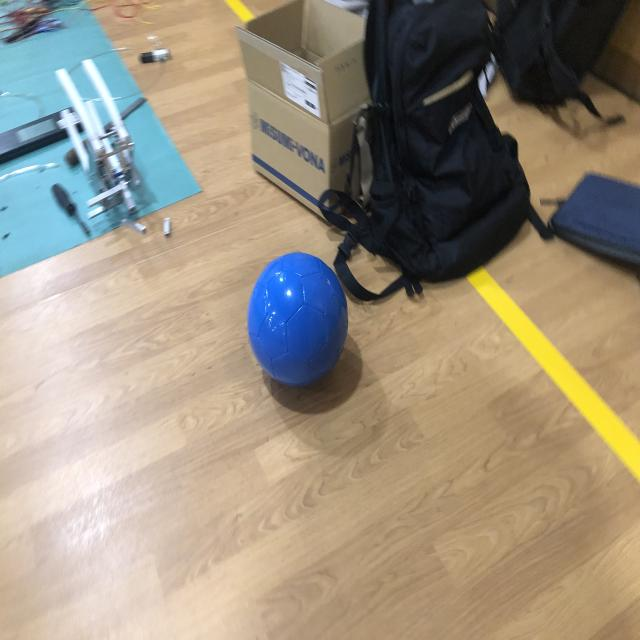blue_ball: (249, 252, 349, 387)
